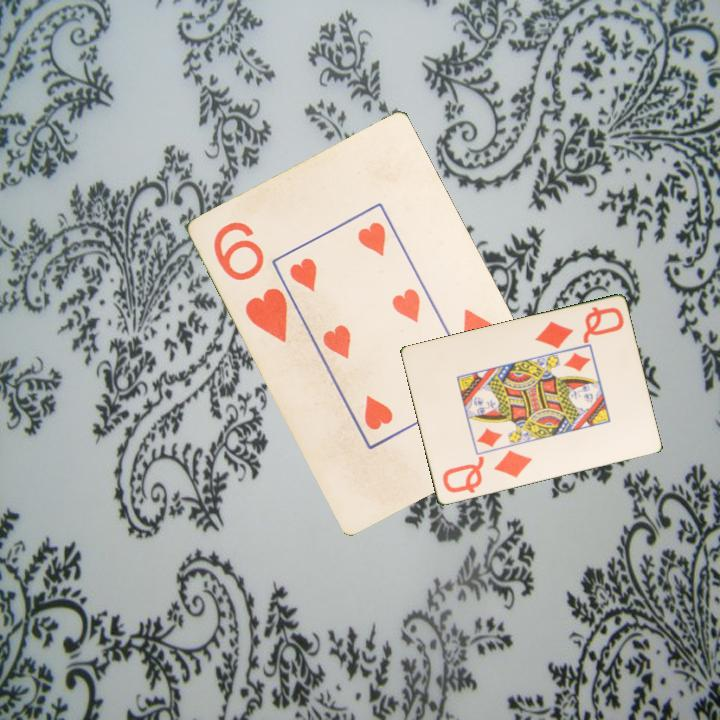6h: (210, 218, 295, 346)
Qd: (531, 303, 628, 352), (439, 447, 535, 496)
